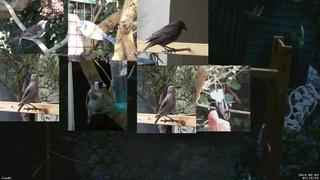blue tit: (76, 20, 117, 44)
goldfinch: (86, 80, 107, 124)
long tailed tit: (219, 86, 230, 120)
sparrow: (9, 20, 48, 43)
starling: (142, 20, 188, 54), (154, 86, 176, 124), (18, 74, 39, 112)
